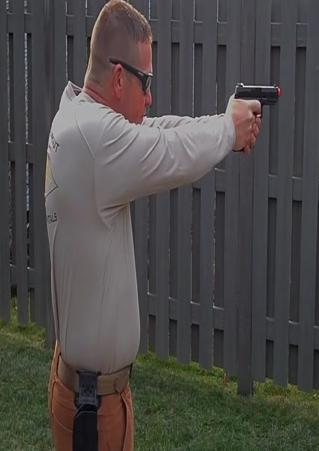pistol: (227, 83, 283, 155)
